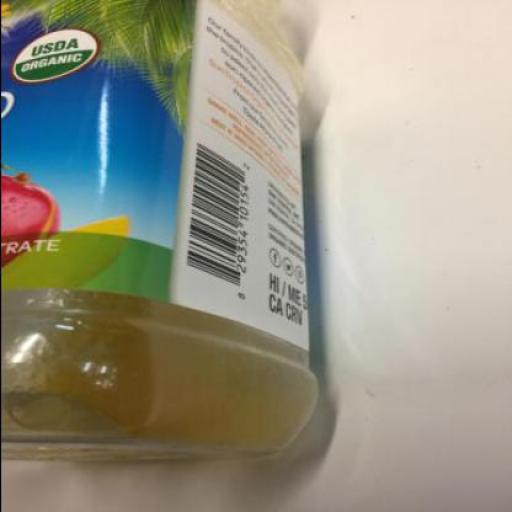plastic: (1, 0, 320, 463)
